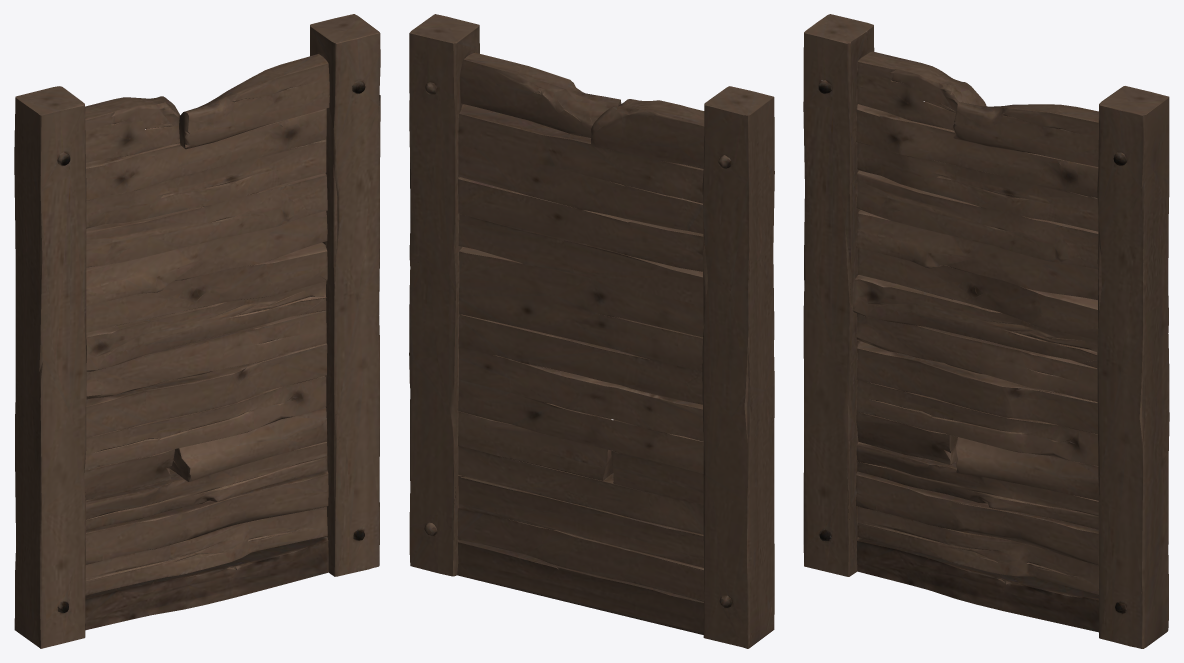
Rendered from trench_revetment_panel.glb.
3 views of the same model, side by side, from view 1: azimuth 30°, elevation 25°; view 2: azimuth 150°, elevation 25°; view 3: azimuth 330°, elevation 25° (orthographic).
Visible parts, largest first — view 1: main; view 2: main; view 3: main.
Boxes of the visible parts, x1,y1,x2,y2 form: main: [14, 14, 380, 648]; main: [409, 14, 774, 648]; main: [803, 14, 1169, 648].
Bounding box in the file's own units: 1.83 × 2.74 × 0.3179.
Materials: 1 (1 with a texture image).
